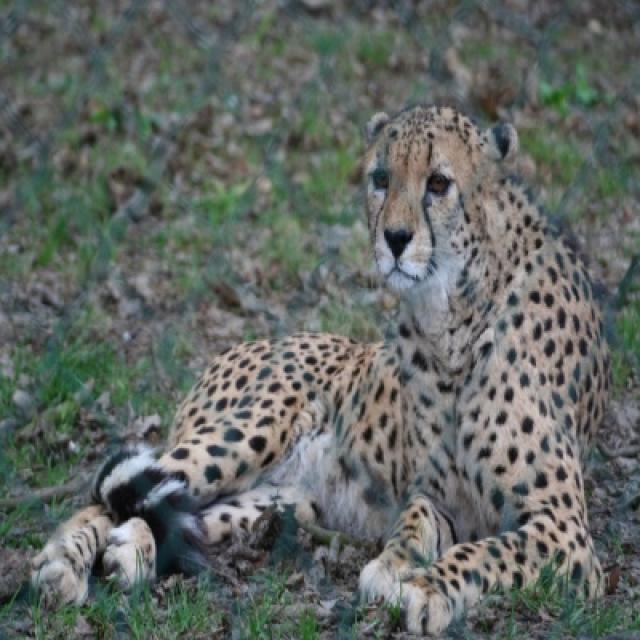Cheetah: (29, 106, 610, 638)
